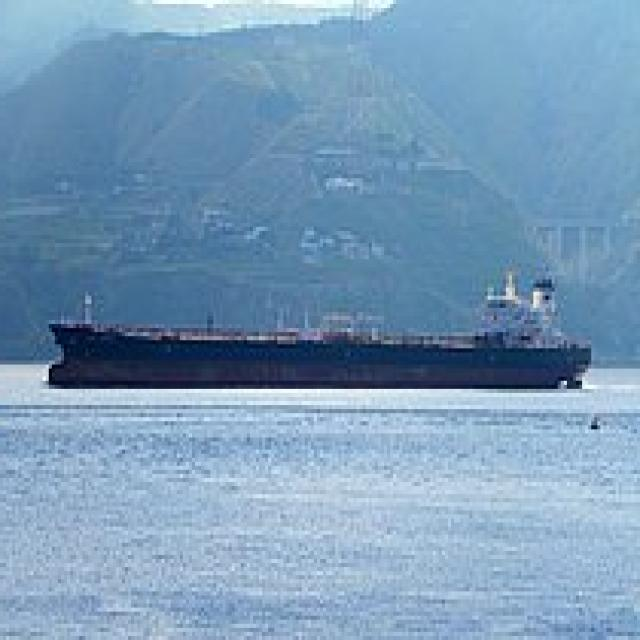Tanker: (43, 263, 597, 385)
